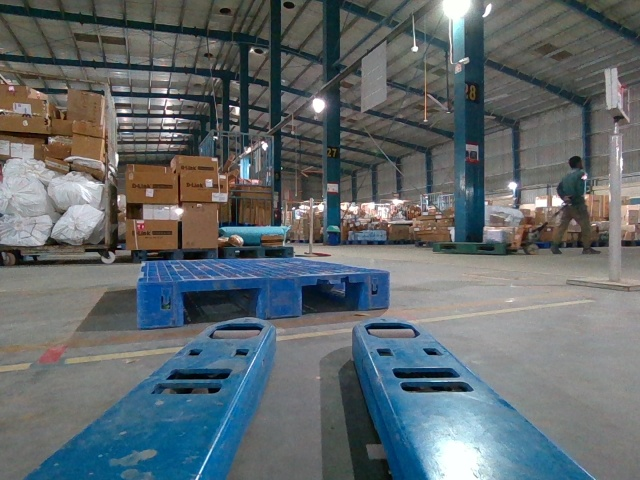block: (139, 281, 185, 328), (262, 279, 301, 316), (360, 272, 388, 311)
front: (138, 272, 389, 328)
hole pallet: (182, 289, 258, 322), (301, 282, 360, 313)
